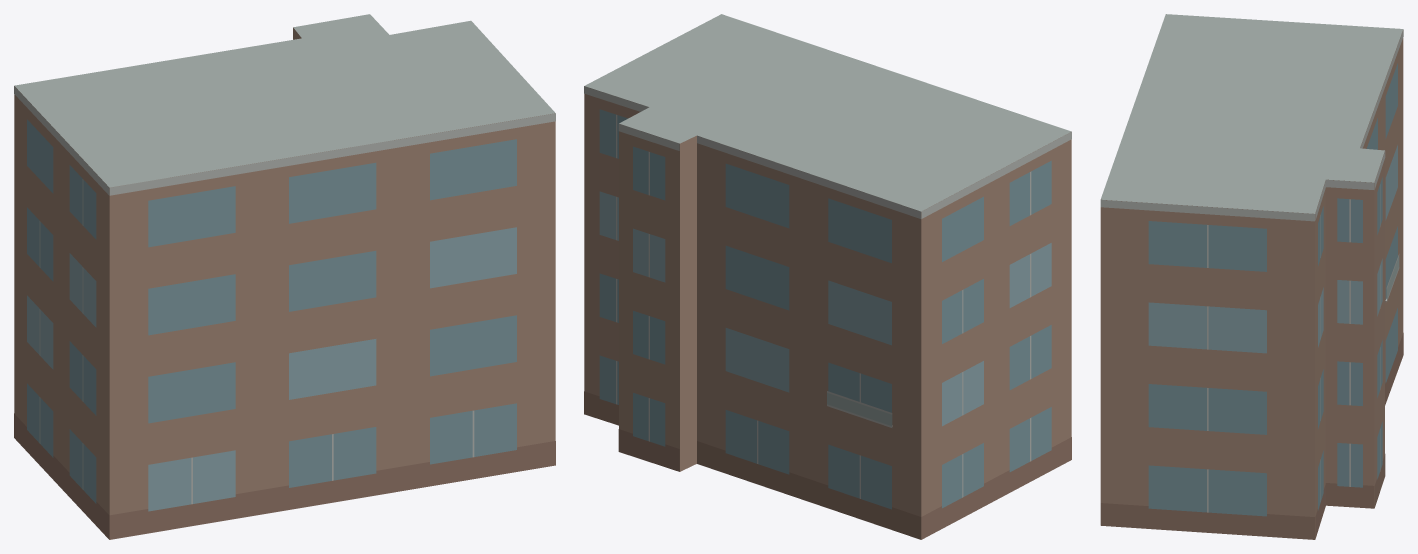
File: survey-upis-32774461.glb
3 views of the same model, side by side, from view 1: azimuth 30°, elevation 25°; view 2: azimuth 150°, elevation 25°; view 3: azimuth 270°, elevation 25° (orthographic). The views are drawn at different scales.
Visible parts, largest first — view 1: survey-upis-32774461.tmp; view 2: survey-upis-32774461.tmp; view 3: survey-upis-32774461.tmp.
Part boxes in pixels (<box>): survey-upis-32774461.tmp: <box>14,14,555,539</box>; survey-upis-32774461.tmp: <box>584,14,1071,539</box>; survey-upis-32774461.tmp: <box>1100,14,1403,539</box>.
Size of the model in its own units: 13.82 by 10.5 by 8.85.
